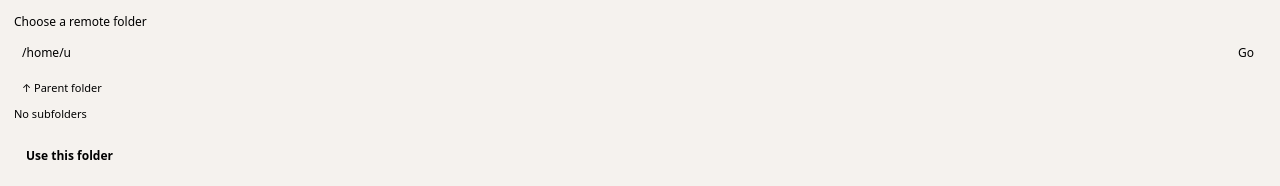
Scenario: does not allow selecting a stale directory after a failed navigation
Expected: the button "Use this folder" is shown, [14,143,125,169]
Replace the text in the field named "Browse remote folder" with "/missing" at {"x": 616, "y": 53}, box [14,39,1218,67]
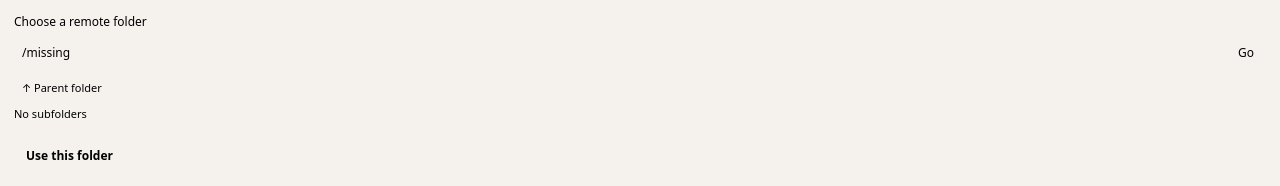
Click the button "Go".
click(1246, 53)  # box [1226,39,1266,67]
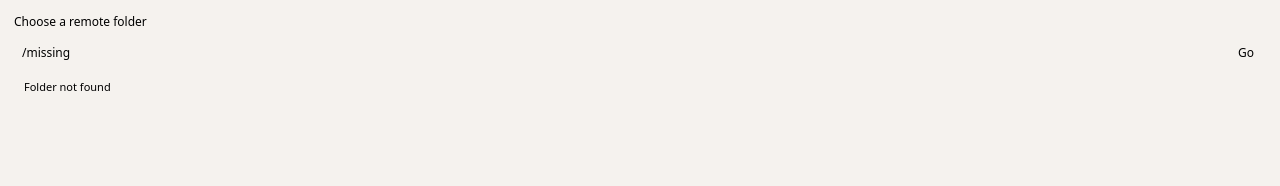
Expected: the message "Folder not found" is shown, [24,79,111,94]
Expected: the button "Use this folder" is gone
